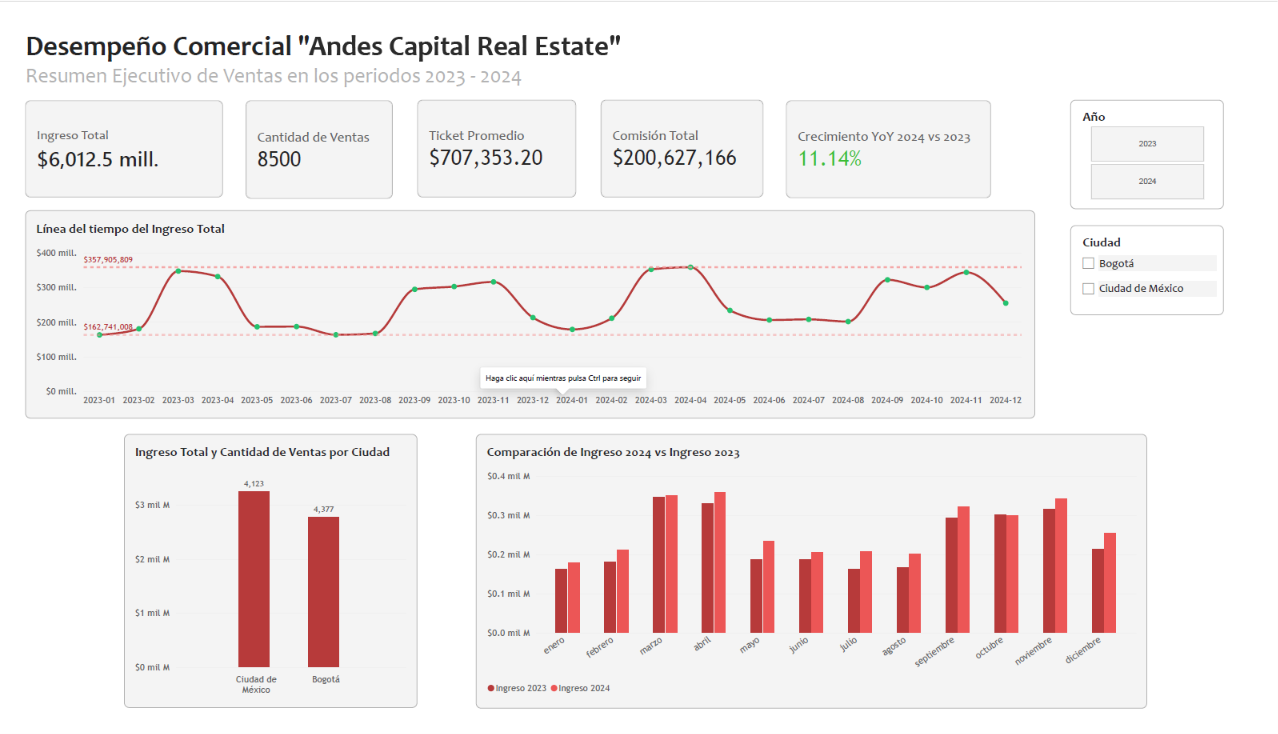

Layout of this report page (visuals, bound fields, positions):
{"tool":"powerbi","page":{"name":"Overview Ejecutivo","canvas":[1920,1080],"ordinal":0},"visuals":[{"type":"textbox","box":[16.3,18.1,928.4,124.9],"z":0},{"type":"cardVisual","fields":{"Data":["hecho_ventas_propiedades.Cantidad de Ventas"]},"box":[354.7,128.5,226.2,150.2],"z":1000},{"type":"cardVisual","fields":{"Data":["hecho_ventas_propiedades.Ticket Promedio"]},"box":[618.9,126.7,244.3,150.2],"z":2000},{"type":"cardVisual","fields":{"Data":["hecho_ventas_propiedades.Comisión Total"]},"box":[901.2,126.7,249.7,150.2],"z":3000},{"type":"lineChart","title":"Línea del tiempo del Ingreso Total ","fields":{"Category":["dim_fecha.Año-Mes"],"Y":["hecho_ventas_propiedades.Ingreso Total"]},"box":[16.3,296.8,1552.7,320.3],"z":4000},{"type":"cardVisual","fields":{"Data":["dim_fecha.Crecimiento YoY"]},"box":[1185.6,127.6,314.9,150.3],"z":5000},{"type":"clusteredColumnChart","title":"Ingreso Total y Cantidad de Ventas por Ciudad","fields":{"Category":["hecho_ventas_propiedades.ciudad"],"Y":["hecho_ventas_propiedades.Ingreso Total"]},"box":[168.3,640.6,450.6,421.7],"z":6000},{"type":"slicer","fields":{"Values":["dim_fecha.Año"]},"box":[1623.3,126.7,235.3,168.3],"z":7000},{"type":"clusteredColumnChart","title":"Comparación de Ingreso 2024 vs Ingreso 2023","fields":{"Category":["dim_fecha.Mes"],"Y":["dim_fecha.Ventas Año Anterior","hecho_ventas_propiedades.Ingreso Total"]},"box":[709.4,640.6,1031.2,422],"z":8000},{"type":"slicer","fields":{"Values":["hecho_ventas_propiedades.ciudad"]},"box":[1623.3,320.3,235.3,137.5],"z":9000},{"type":"cardVisual","fields":{"Data":["hecho_ventas_propiedades.Ingreso Total"]},"box":[16.3,128.5,304,148.4],"z":10000},{"type":"actionButton","box":[16.3,300.4,1552.7,316.7],"z":11000}]}

Visuals, with their boxes in screenshot pixels (x1, y1, x2, y2), scaled from the page's 1920x1080 canvas onto the 1278x734 screenshot:
textbox: (x1=11, y1=12, x2=629, y2=97)
cardVisual - hecho_ventas_propiedades.Cantidad de Ventas: (x1=236, y1=87, x2=387, y2=189)
cardVisual - hecho_ventas_propiedades.Ticket Promedio: (x1=412, y1=86, x2=575, y2=188)
cardVisual - hecho_ventas_propiedades.Comisión Total: (x1=600, y1=86, x2=766, y2=188)
"Línea del tiempo del Ingreso Total " lineChart: (x1=11, y1=202, x2=1044, y2=419)
cardVisual - dim_fecha.Crecimiento YoY: (x1=789, y1=87, x2=999, y2=189)
"Ingreso Total y Cantidad de Ventas por Ciudad" clusteredColumnChart: (x1=112, y1=435, x2=412, y2=722)
slicer - dim_fecha.Año: (x1=1081, y1=86, x2=1237, y2=200)
"Comparación de Ingreso 2024 vs Ingreso 2023" clusteredColumnChart: (x1=472, y1=435, x2=1159, y2=722)
slicer - hecho_ventas_propiedades.ciudad: (x1=1081, y1=218, x2=1237, y2=311)
cardVisual - hecho_ventas_propiedades.Ingreso Total: (x1=11, y1=87, x2=213, y2=188)
actionButton: (x1=11, y1=204, x2=1044, y2=419)
